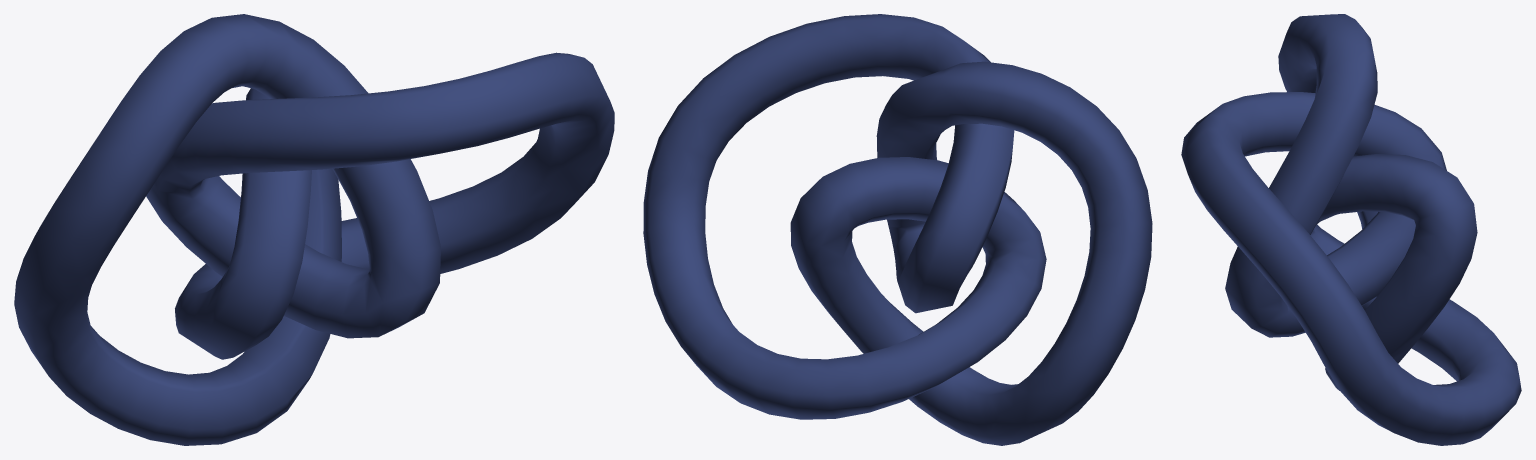
3 views of the same model, side by side, from view 1: azimuth 30°, elevation 25°; view 2: azimuth 150°, elevation 25°; view 3: azimuth 270°, elevation 25° (orthographic). The views are drawn at different scales.
Visible parts, largest first — view 1: Torus_03; view 2: Torus_03; view 3: Torus_03.
Part boxes in pixels (bbox=[...]): Torus_03: bbox=[14, 14, 614, 445]; Torus_03: bbox=[643, 14, 1152, 445]; Torus_03: bbox=[1181, 14, 1521, 445].
Size of the model in its own units: 267 by 189 by 165.
Materials: 1 (1 with a texture image).
